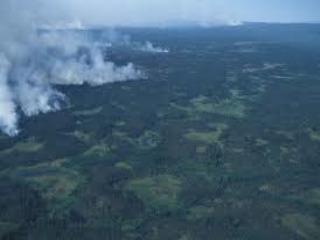smoke: (1, 6, 180, 123), (190, 10, 243, 31)
